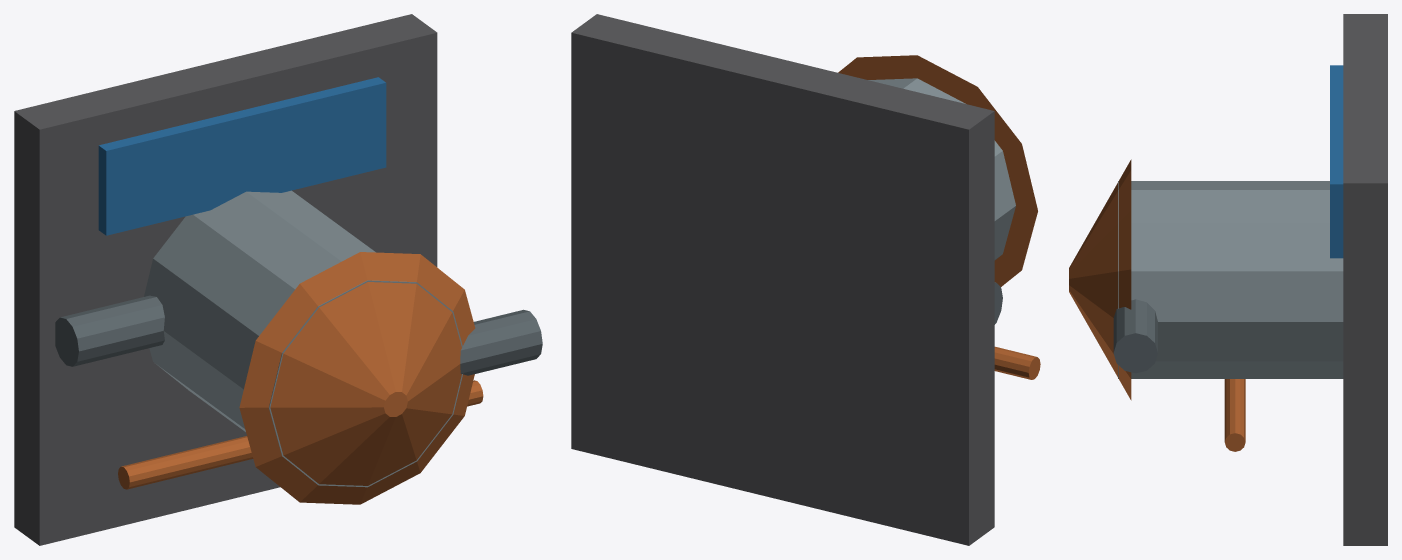
The model's file is steam-condenser.obj.
3 views of the same model, side by side, from view 1: azimuth 30°, elevation 25°; view 2: azimuth 150°, elevation 25°; view 3: azimuth 270°, elevation 25° (orthographic). The views are drawn at different scales.
Visible parts, largest first — view 1: steam-condenser_base, steam-condenser_funnel, steam-condenser_cooling_tower, steam-condenser_collection_tray, steam-condenser_condensate_outlet, steam-condenser_upper_steam_pipe, steam-condenser_coil_0, steam-condenser_coil_1; view 2: steam-condenser_base, steam-condenser_funnel, steam-condenser_cooling_tower, steam-condenser_coil_0; view 3: steam-condenser_cooling_tower, steam-condenser_base, steam-condenser_funnel, steam-condenser_upper_steam_pipe, steam-condenser_collection_tray, steam-condenser_coil_3.
Part boxes in pixels (left/top/right/bottom): steam-condenser_base: left=14, top=14, right=437, bottom=545; steam-condenser_funnel: left=239, top=252, right=475, bottom=504; steam-condenser_cooling_tower: left=144, top=190, right=462, bottom=487; steam-condenser_collection_tray: left=98, top=77, right=386, bottom=235; steam-condenser_condensate_outlet: left=55, top=295, right=164, bottom=366; steam-condenser_upper_steam_pipe: left=460, top=309, right=542, bottom=375; steam-condenser_coil_0: left=118, top=436, right=252, bottom=489; steam-condenser_coil_1: left=186, top=436, right=253, bottom=474; steam-condenser_base: left=571, top=14, right=994, bottom=545; steam-condenser_funnel: left=838, top=55, right=1037, bottom=286; steam-condenser_cooling_tower: left=868, top=78, right=1015, bottom=260; steam-condenser_coil_0: left=994, top=346, right=1040, bottom=379; steam-condenser_cooling_tower: left=1118, top=181, right=1343, bottom=378; steam-condenser_base: left=1343, top=14, right=1387, bottom=545; steam-condenser_funnel: left=1069, top=159, right=1131, bottom=400; steam-condenser_upper_steam_pipe: left=1113, top=299, right=1157, bottom=373; steam-condenser_collection_tray: left=1330, top=65, right=1343, bottom=258; steam-condenser_coil_3: left=1224, top=379, right=1245, bottom=451.
Size of the model in its own units: 2.7 by 2.7 by 2.15.
